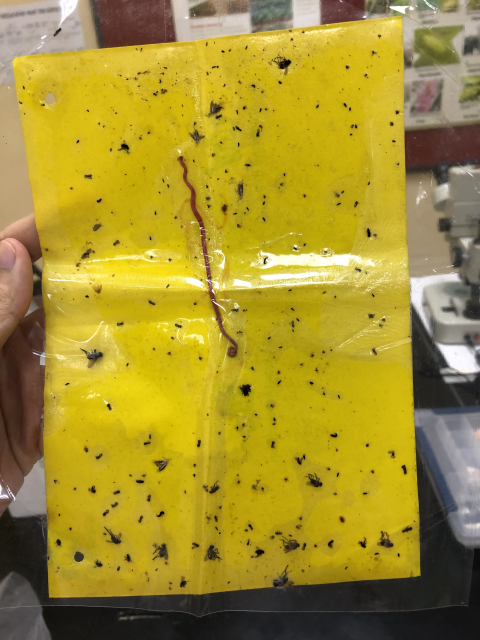DBM: (205, 98, 225, 118), (188, 127, 207, 148), (150, 457, 173, 473), (235, 180, 246, 201)
